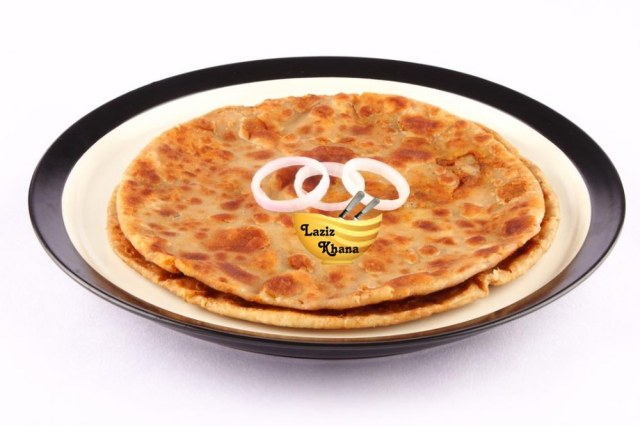aloo_paratha: (106, 89, 561, 331)
